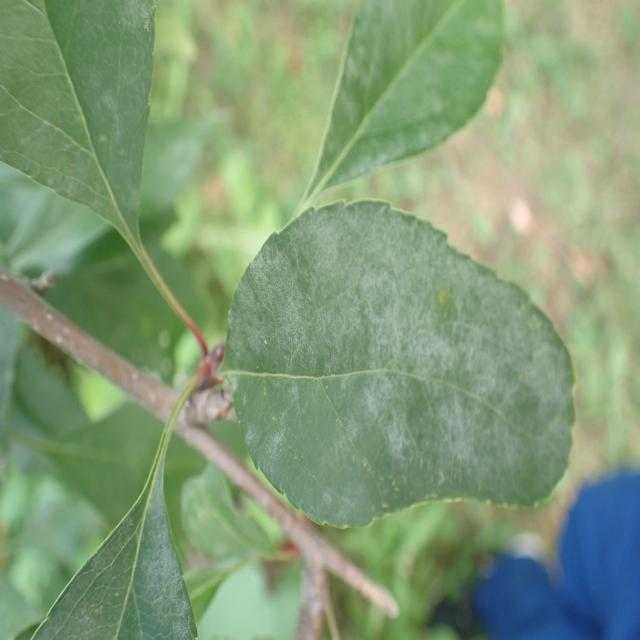Powdery_mildew: (206, 206, 576, 540), (3, 0, 179, 271), (300, 2, 547, 175), (48, 472, 242, 640)
